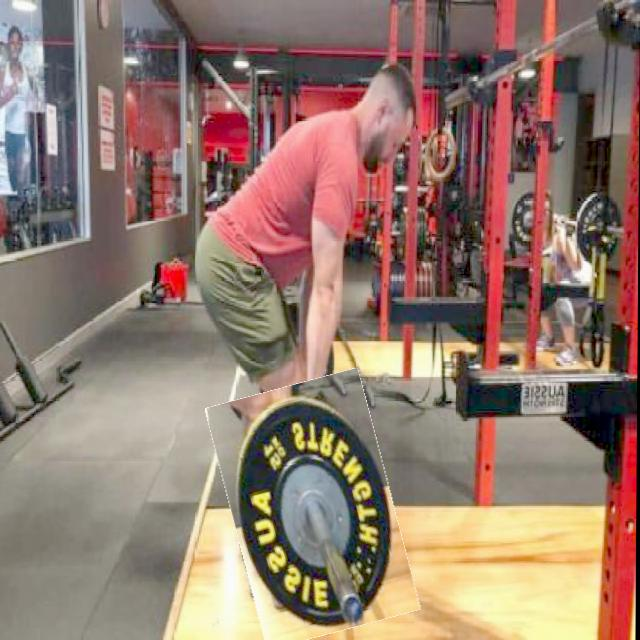barbell: (220, 376, 409, 640)
